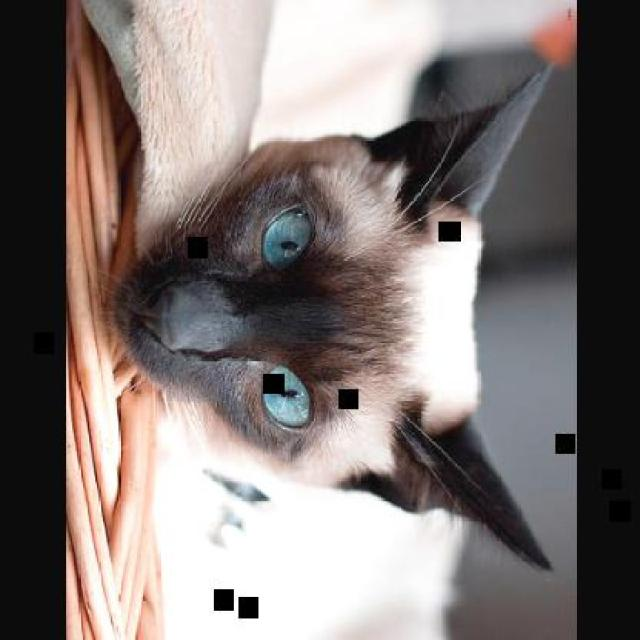unauthorized: (108, 59, 555, 572)
